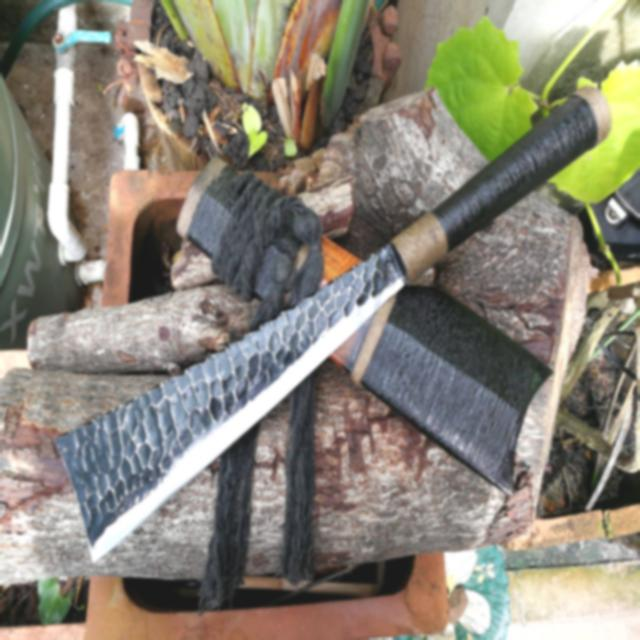eto: (39, 70, 625, 574)
